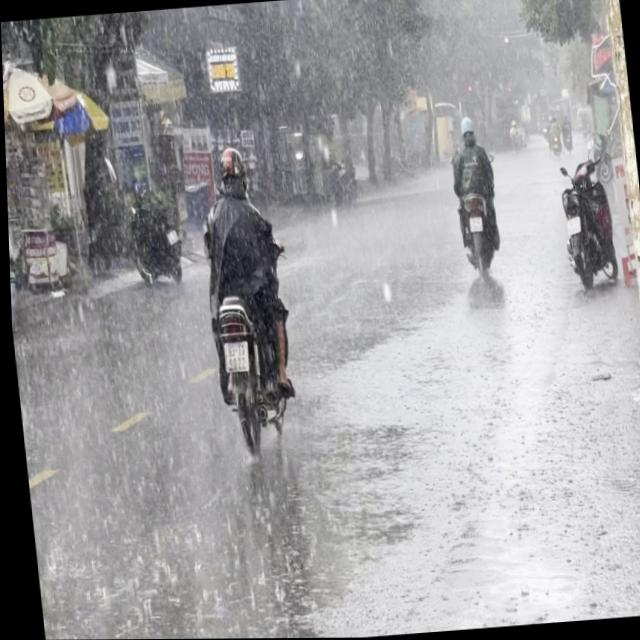helmet: (215, 143, 244, 195)
licenseplate: (183, 137, 301, 454)
nohelmet: (220, 341, 246, 371)
